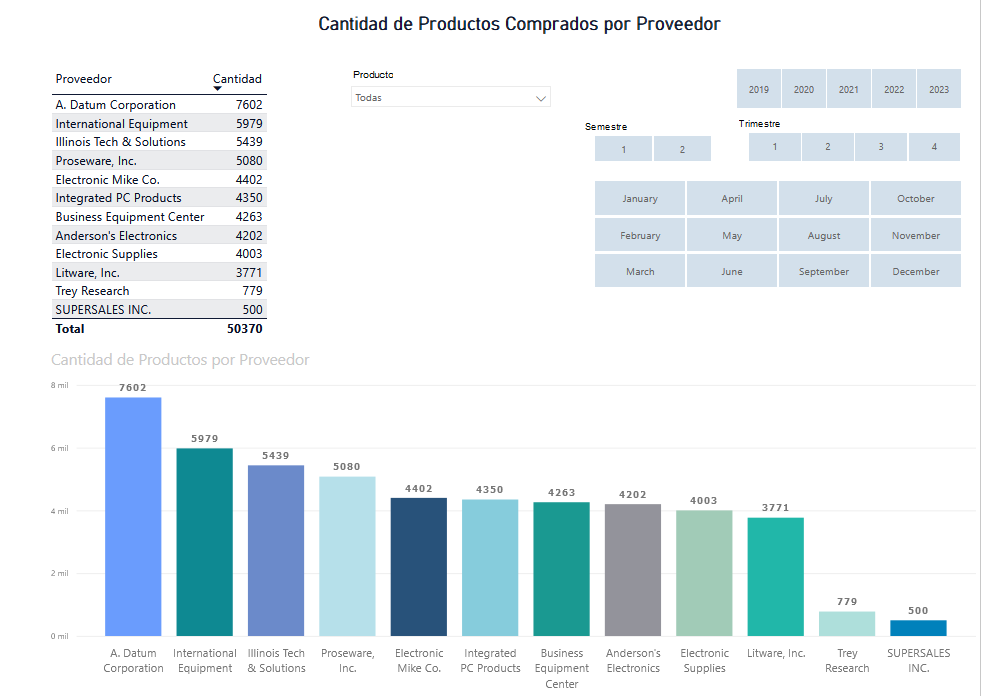

What the dashboard file says about the page in this screenshot:
{"tool":"powerbi","page":{"name":"ProductosProveedor","canvas":[1280,915],"ordinal":1},"visuals":[{"type":"textbox","box":[323.9,12.5,725.6,71.6],"z":0},{"type":"tableEx","fields":{"Values":["dimsupplier.supplier_name","factdetalleordencompra.Cantidad Producto por Proveedor"]},"box":[77.4,84.6,428.4,365.4],"z":1000},{"type":"clusteredColumnChart","title":"Cantidad de Productos por Proveedor","fields":{"Y":["factdetalleordencompra.Cantidad Producto por Proveedor"],"Category":["dimsupplier.supplier_name"]},"box":[77.4,450,1202.4,450],"z":2000},{"type":"slicer","fields":{"Values":["dimdate.year"]},"box":[940.6,84.2,338.5,64],"z":3000},{"type":"slicer","fields":{"Values":["dimdate.semestre"]},"box":[757.6,151.9,199.5,64],"z":4000},{"type":"slicer","fields":{"Values":["dimdate.trimestre"]},"box":[957.1,148.2,322.1,67.7],"z":5000},{"type":"slicer","fields":{"Values":["dimdate.fecha.Variación.Date Hierarchy.Month"]},"box":[757.6,228.7,521.5,150.1],"z":6000},{"type":"slicer","fields":{"Values":["dimitem.item_name"]},"box":[459.3,84.2,278.2,76.9],"z":7000}]}

Visuals, with their boxes in screenshot pixels (x1, y1, x2, y2), scaled from the page's 1280x915 canvas onto the 982x696 screenshot:
textbox: <bbox>248, 10, 805, 64</bbox>
tableEx - dimsupplier.supplier_name x factdetalleordencompra.Cantidad Producto por Proveedor: <bbox>59, 64, 388, 342</bbox>
"Cantidad de Productos por Proveedor" clusteredColumnChart: <bbox>59, 342, 981, 685</bbox>
slicer - dimdate.year: <bbox>722, 64, 981, 113</bbox>
slicer - dimdate.semestre: <bbox>581, 116, 734, 164</bbox>
slicer - dimdate.trimestre: <bbox>734, 113, 981, 164</bbox>
slicer - dimdate.fecha.Variación.Date Hierarchy.Month: <bbox>581, 174, 981, 288</bbox>
slicer - dimitem.item_name: <bbox>352, 64, 566, 123</bbox>
